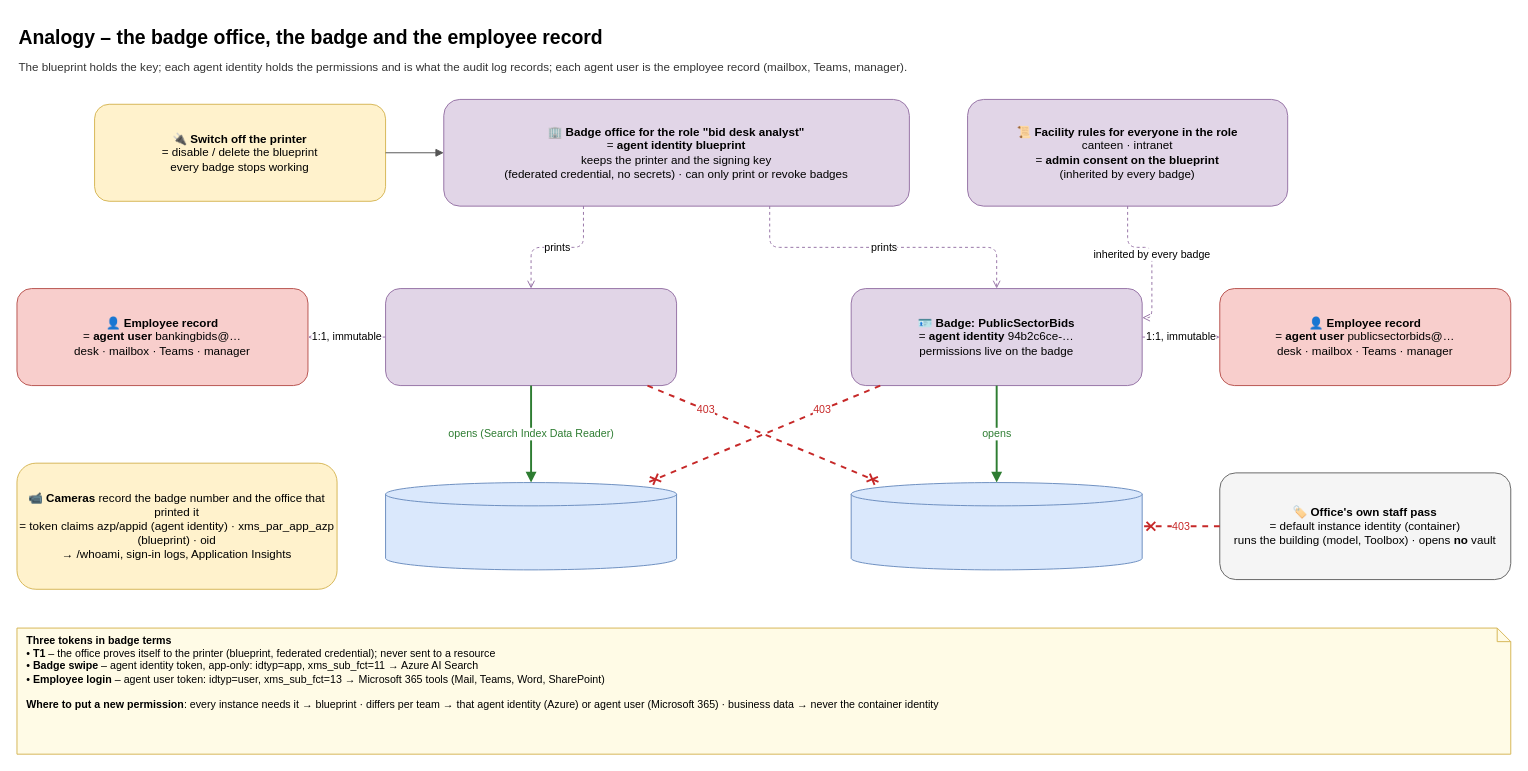
The diagram is 1528 pixels wide and 771 high, and some of its shapes have lost their labels. Here are the shapes that lost their labels. From the top down, the centre of each, then its label:
At point (531, 337): "🪪 Badge: BankingBids = agent identity 35b5cd0a-… permissions live on the badge".
At point (531, 526): "🚪 Banking vault index bids-banking".
At point (996, 526): "🚪 Public-sector vault index bids-publicsector".
